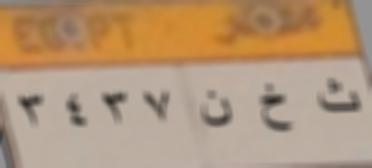3: (16, 88, 47, 129), (102, 86, 130, 129)
4: (62, 90, 88, 137)
7: (142, 82, 173, 126)
khaa: (256, 80, 294, 136)
noon: (197, 86, 234, 135)
thaa: (315, 76, 364, 118)
